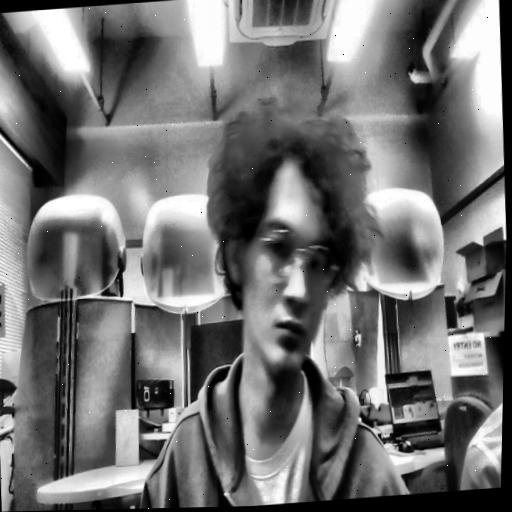Daifuku: (191, 112, 397, 393)
